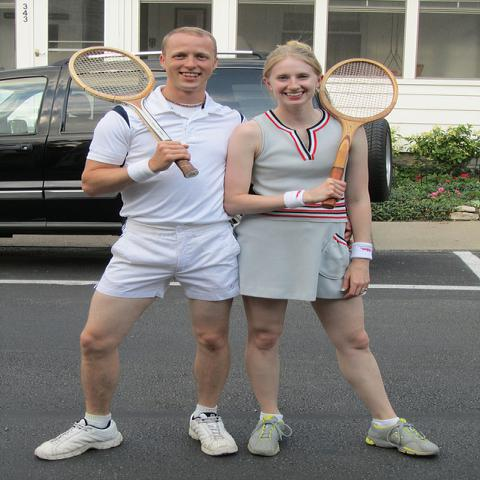truck: (0, 49, 398, 239)
